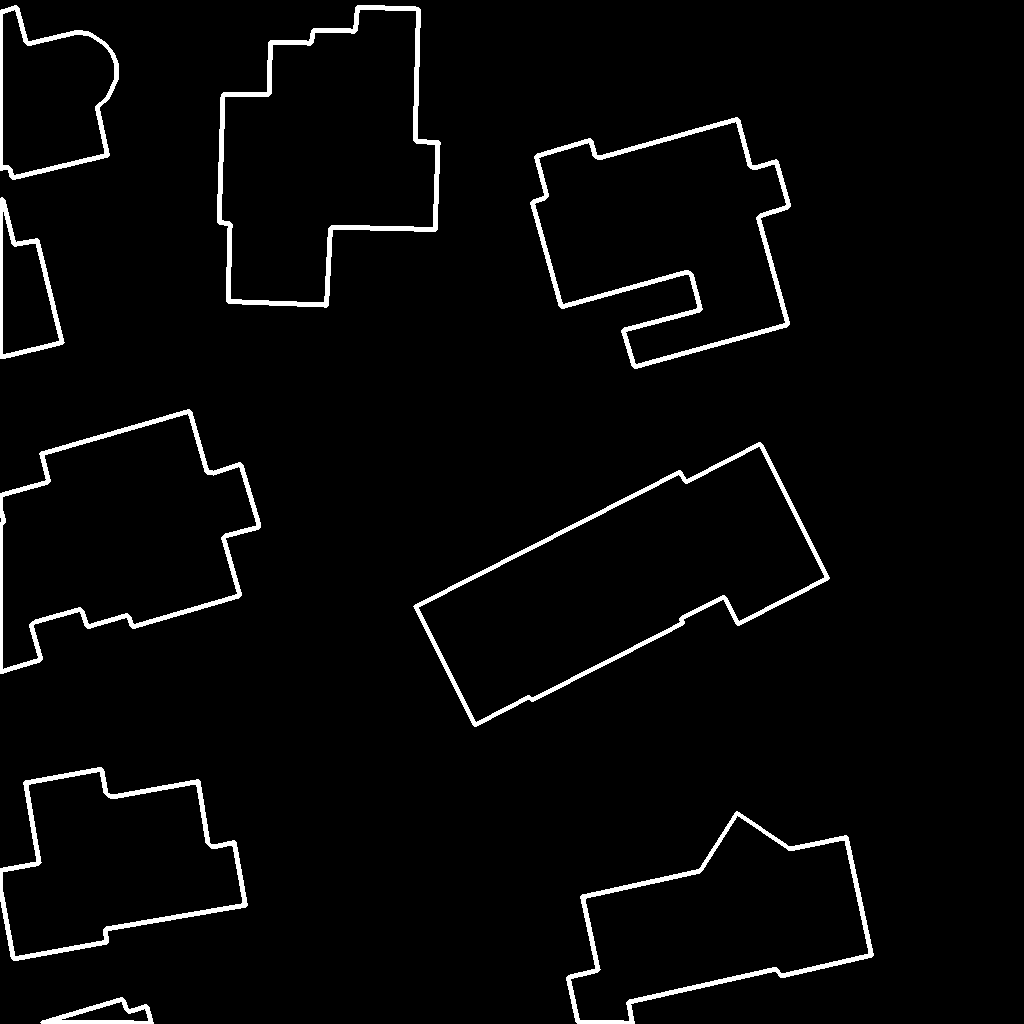building: (415, 444, 829, 726), (0, 411, 260, 673), (219, 7, 439, 306), (568, 813, 873, 1024), (532, 119, 790, 368), (0, 769, 247, 960), (0, 7, 117, 358), (41, 999, 153, 1024)
